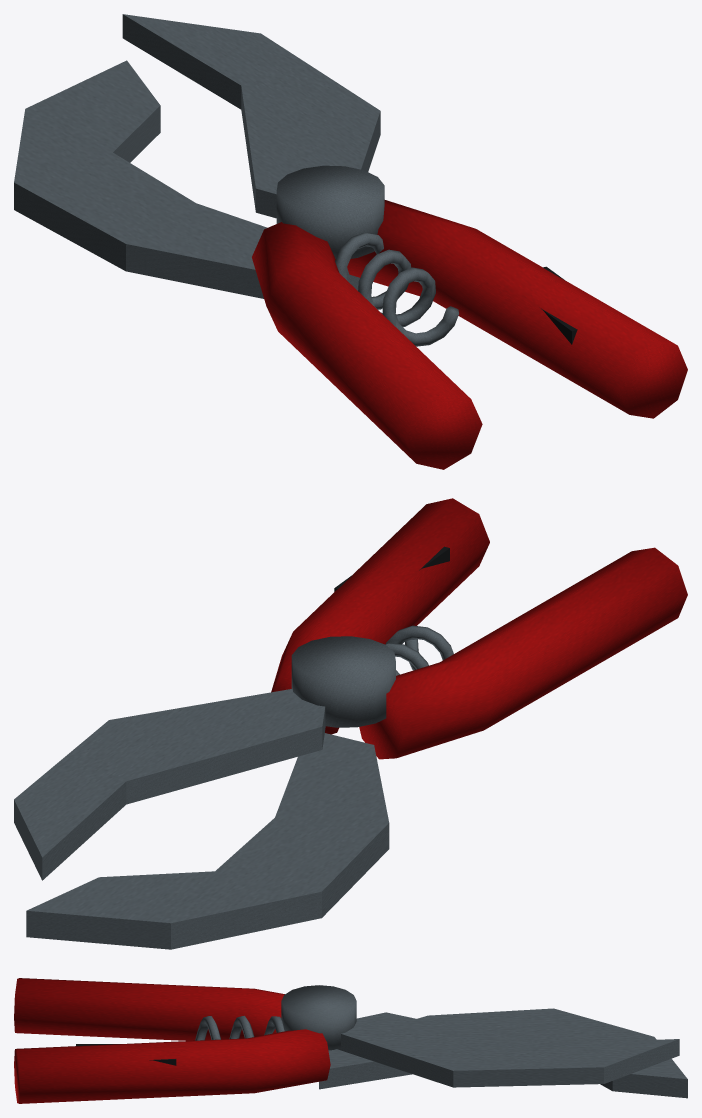
The model's file is BypassPruners.gltf.
3 renders of one model, top to bottom at view 1: azimuth 30°, elevation 25°; view 2: azimuth 150°, elevation 25°; view 3: azimuth 270°, elevation 25°, orthographic. The views are drawn at different scales.
Visible parts, largest first — view 1: BypassPruners__Body; view 2: BypassPruners__Body; view 3: BypassPruners__Body.
Part boxes in pixels (left/top/right/bottom): BypassPruners__Body: left=14, top=14, right=687, bottom=469; BypassPruners__Body: left=14, top=498, right=687, bottom=949; BypassPruners__Body: left=14, top=978, right=687, bottom=1103.
Bounding box in the file's own units: 0.0784 × 0.028 × 0.225.
1 material, 1 textured.
